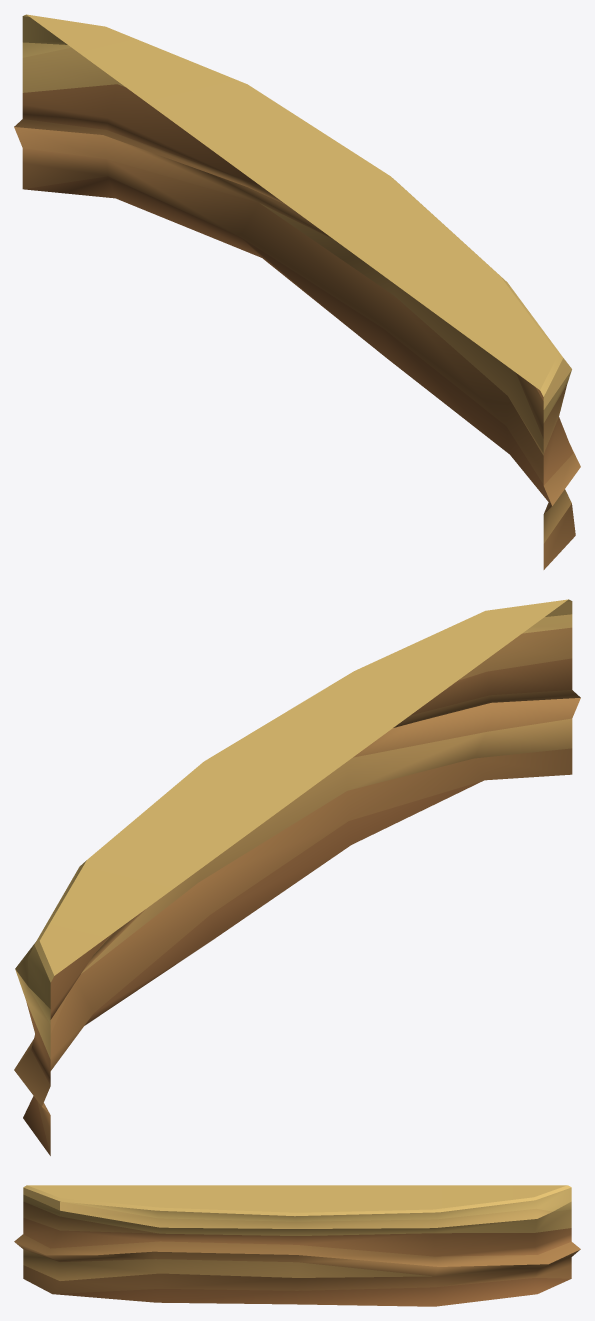
File: SM_DE_ Canyon.fbx
The picture shows the model from 3 angles, top to bottom: view 1: azimuth 30°, elevation 25°; view 2: azimuth 150°, elevation 25°; view 3: azimuth 270°, elevation 25°; orthographic projection. The views are drawn at different scales.
Parts seen in each view (by area): view 1: pCylinder1; view 2: pCylinder1; view 3: pCylinder1.
Part boxes in pixels (box(x1,y1,x2,y2)): pCylinder1: box(14, 14, 580, 569); pCylinder1: box(14, 599, 580, 1155); pCylinder1: box(14, 1185, 580, 1306).
Bounding box in the file's own units: 96.74 × 145 × 794.
